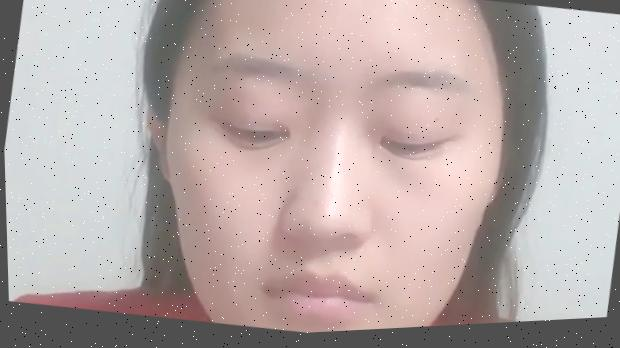eye: (244, 122, 276, 150), (389, 138, 418, 162)
iris: (225, 122, 289, 152), (380, 139, 437, 165)
